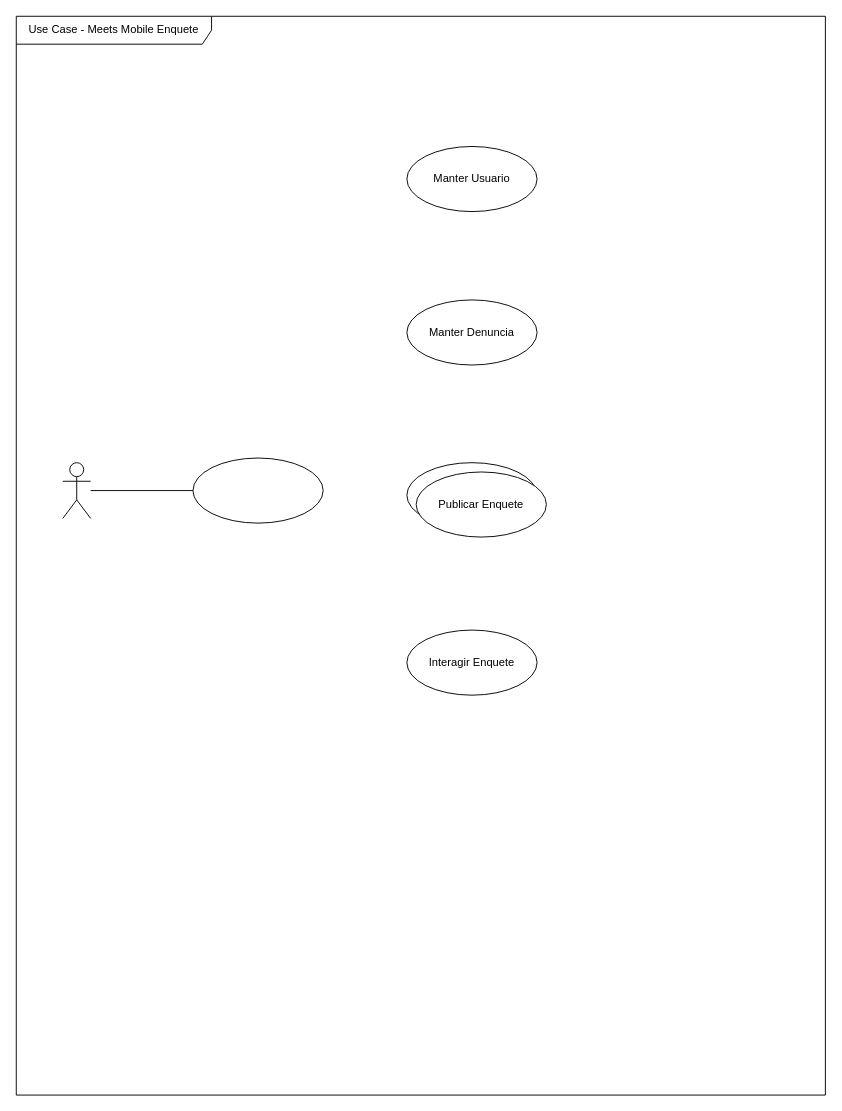
The diagram is 842 pixels wide and 1111 high, and some of its shapes have lost their labels. Each missing label, with the box of its shape:
ActorName: (62, 462, 91, 518)
Visualizar Feed: (192, 457, 323, 523)
